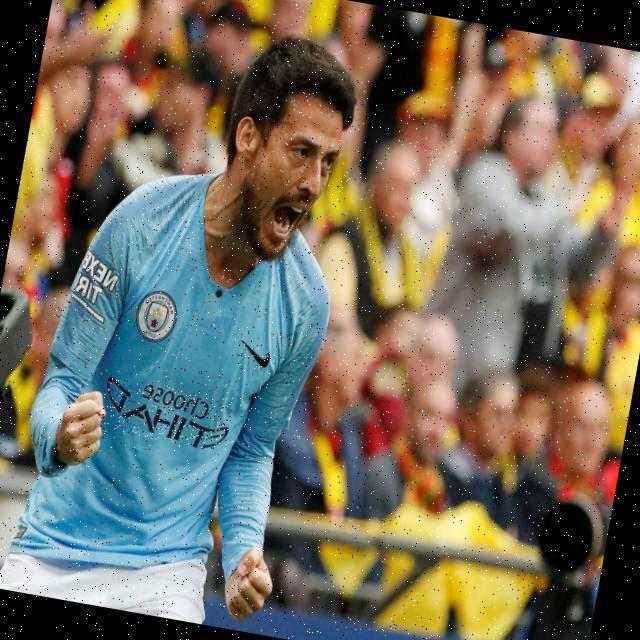Etihad Airways: (96, 376, 234, 452)
Nike: (235, 339, 272, 370)
